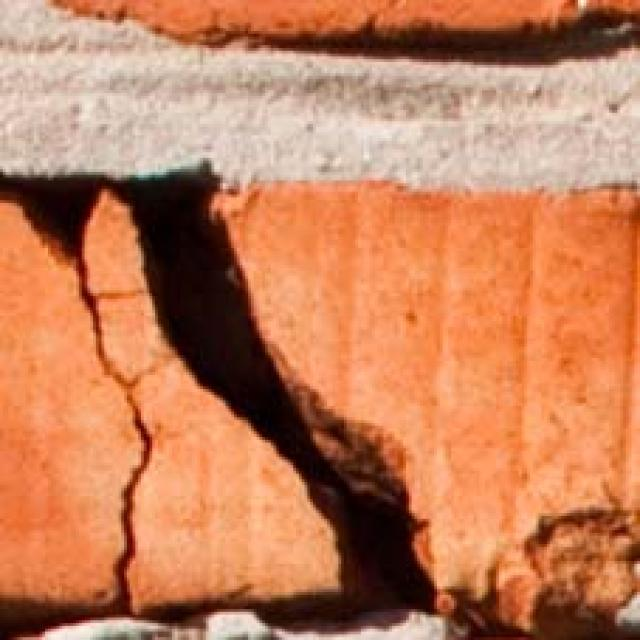Crack: (0, 139, 522, 640), (0, 0, 634, 101)
